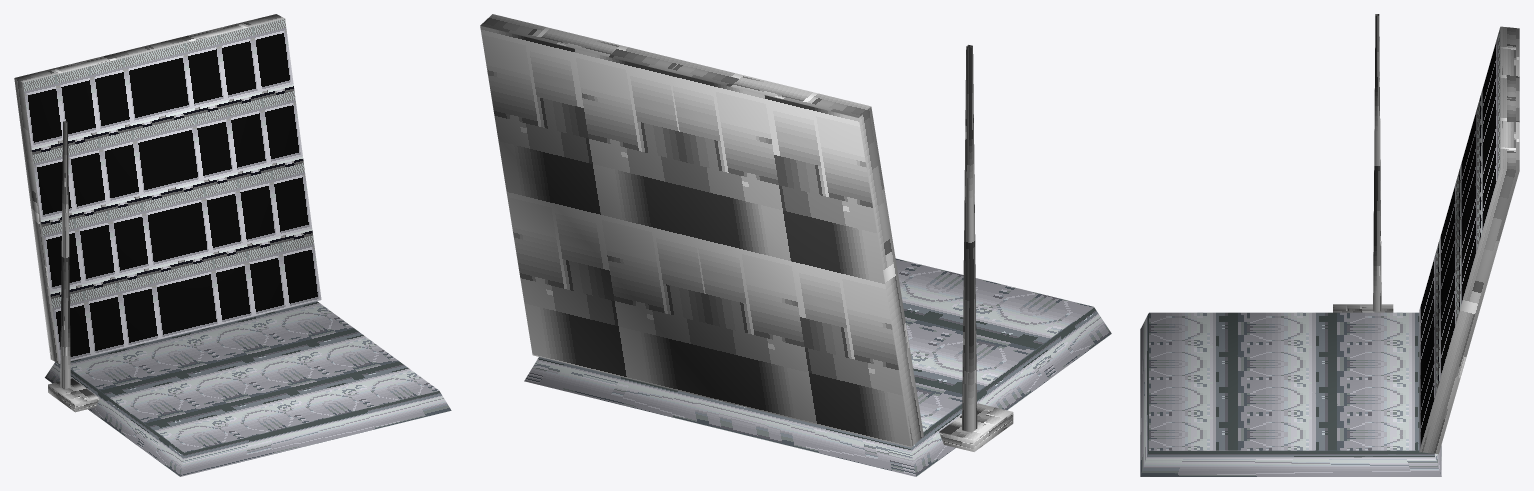
File: 3495IMEL01_12.gltf
The picture shows the model from 3 angles, left to right: view 1: azimuth 30°, elevation 25°; view 2: azimuth 150°, elevation 25°; view 3: azimuth 270°, elevation 25°; orthographic projection. The views are drawn at different scales.
Visible parts, largest first — view 1: 3495IMEL01_12; view 2: 3495IMEL01_12; view 3: 3495IMEL01_12.
Boxes of the visible parts, box(x1,y1,x2,y2) form: 3495IMEL01_12: box(14, 14, 451, 476); 3495IMEL01_12: box(480, 14, 1111, 476); 3495IMEL01_12: box(1140, 14, 1519, 476).
Size of the model in its own units: 0.7744 by 0.7122 by 0.7891.
Materials: 4 (4 with a texture image).
